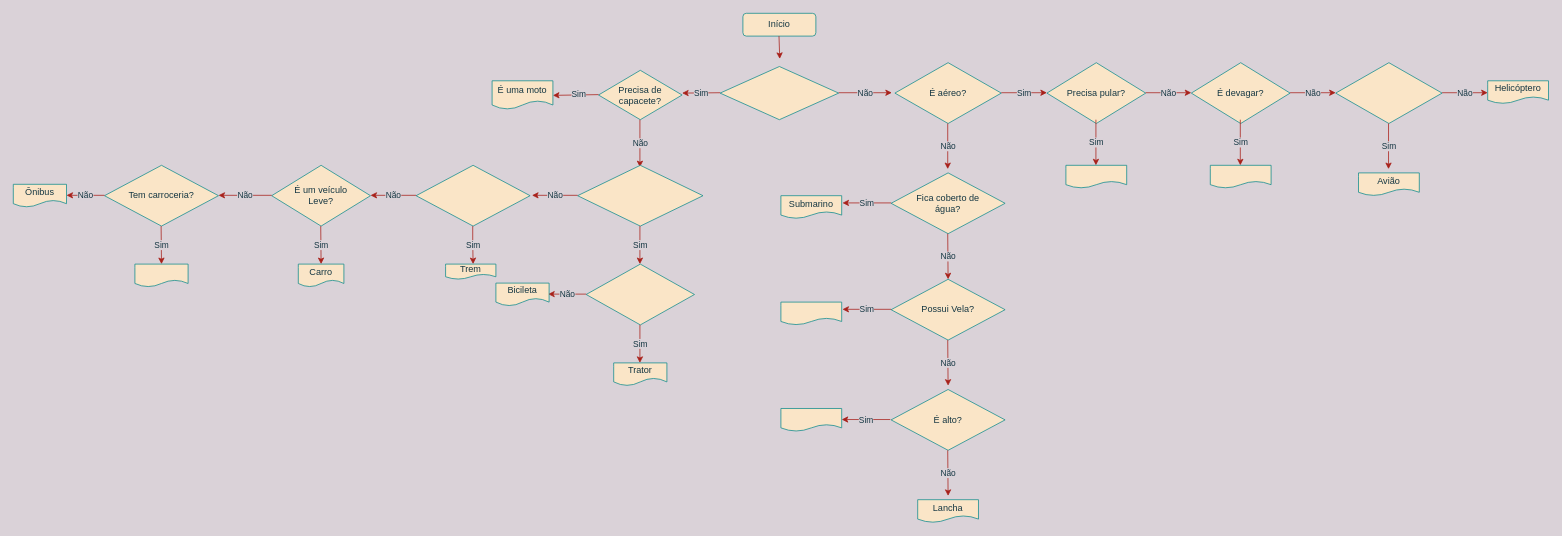
This 1562x536 diagram has some shape labels left out. Here are the shapes that lost their labels. From the top down, the box of each, then its label:
(719, 66, 839, 120): O veículo terrestre?
(1335, 62, 1442, 124): Possui asas fixas?
(415, 165, 530, 226): Anda em trilhos?
(577, 165, 703, 226): Cabe apenas uma pessoa?
(1065, 165, 1127, 188): Asa delta
(1210, 165, 1271, 188): Balão
(134, 263, 188, 287): Caminhão
(585, 263, 694, 325): É um veículo pesado?
(780, 301, 842, 325): Barco
(780, 408, 842, 431): Navio
